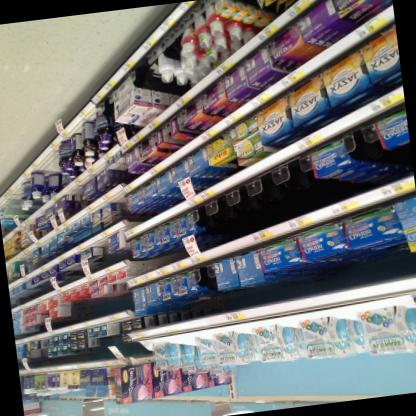empty_space: (187, 193, 281, 230), (230, 169, 319, 206), (274, 150, 320, 186)
